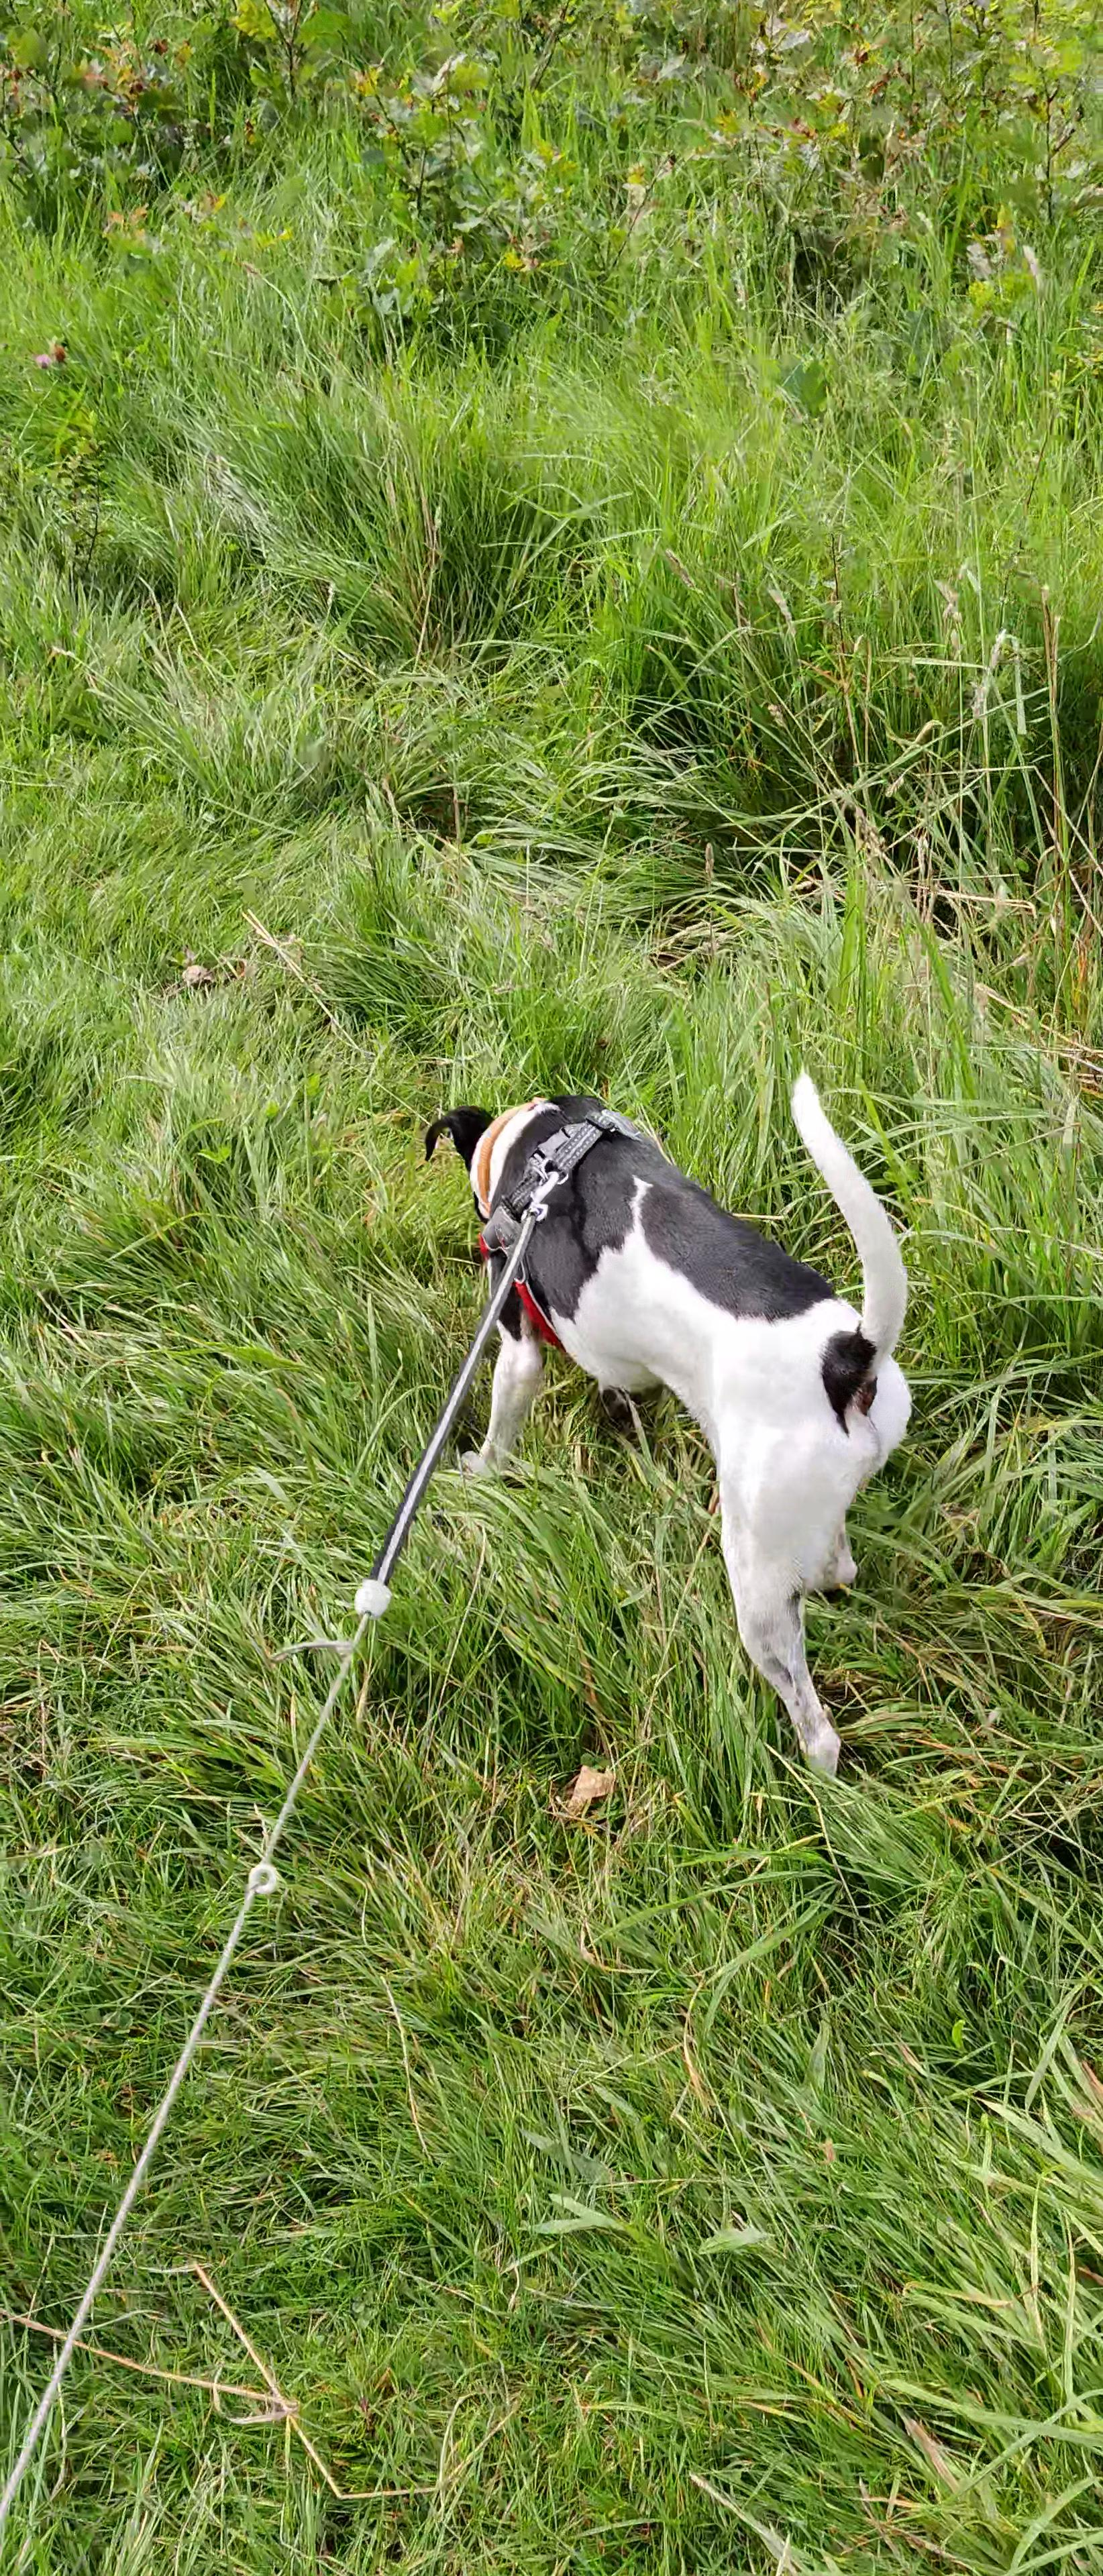Dog: (399, 1017, 945, 1819)
